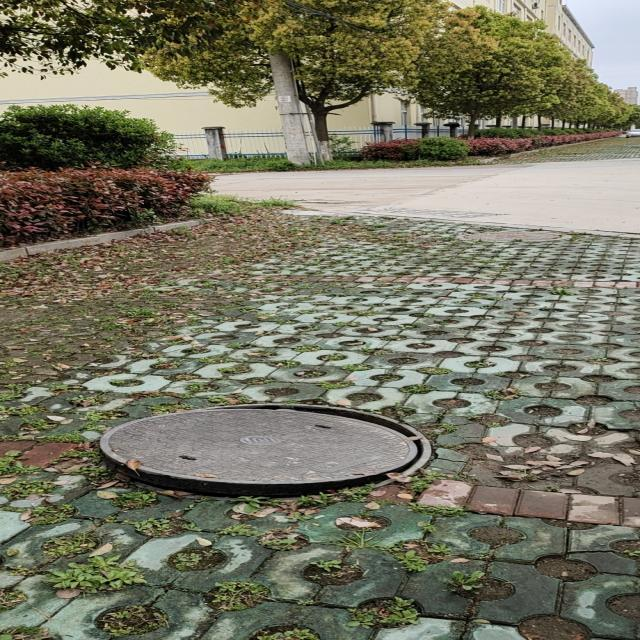Faulty: (99, 406, 430, 502)
